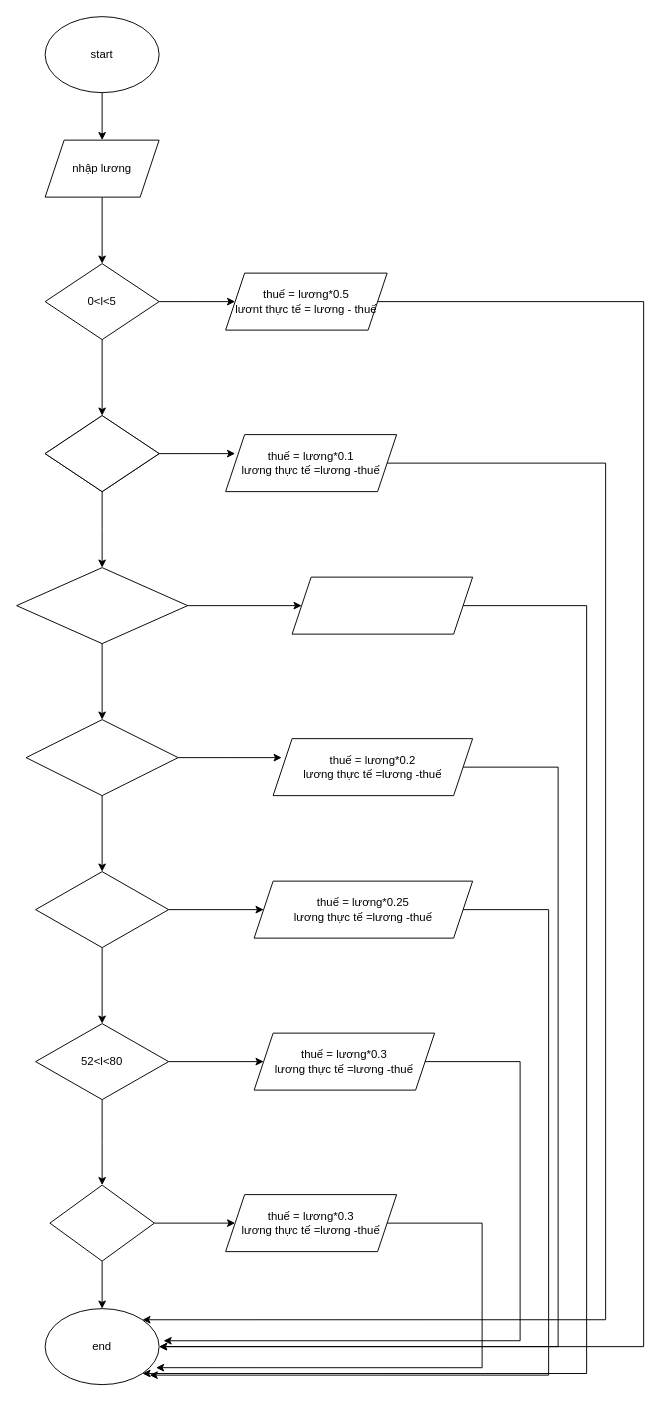
The diagram is 668 pixels wide and 1401 high, and some of its shapes have lost their labels. The shapes that lost their labels are listed below. From the top down, each one's centre as x and y in pixels, then its label:
At pixel 101 453: "5<l<10".
At pixel 102 605: "10<l<18".
At pixel 382 605: "thuế = lương*0.15 lương thực tế =lương -thuế".
At pixel 101 757: "18<l<32".
At pixel 102 909: "32<l<52".
At pixel 101 1222: "l>80".
